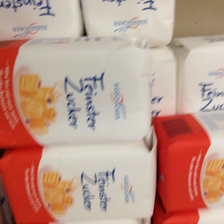tomato_sauce: (1, 35, 150, 147), (1, 147, 157, 224), (151, 111, 224, 215)
